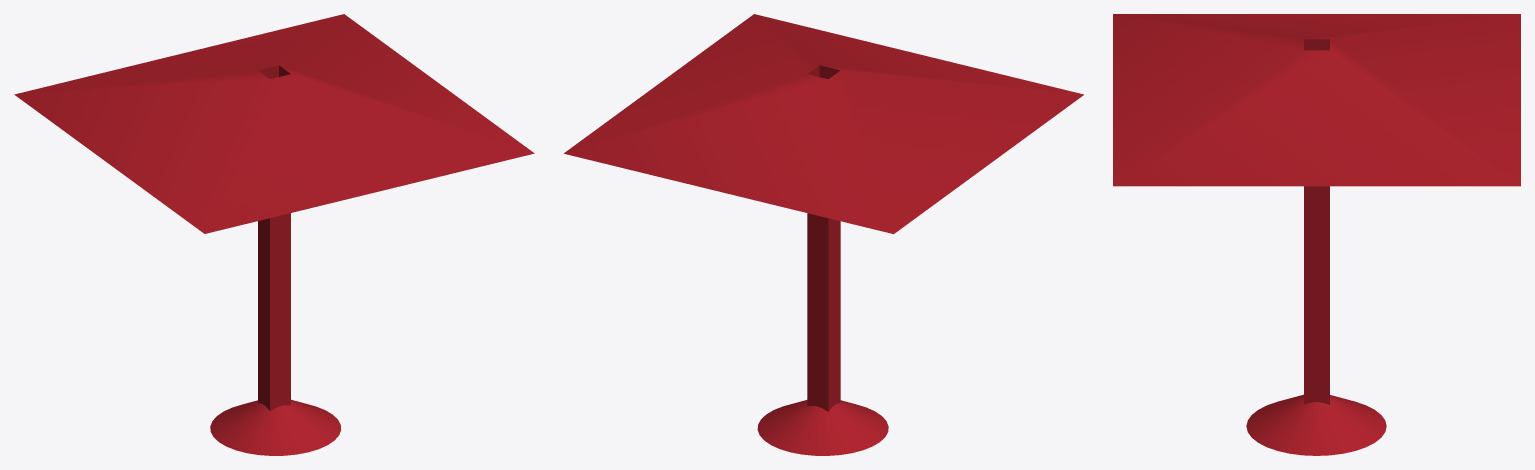
Rendered from parasol.fbx.
3 renders of one model, left to right at view 1: azimuth 30°, elevation 25°; view 2: azimuth 150°, elevation 25°; view 3: azimuth 270°, elevation 25°, orthographic. The views are drawn at different scales.
Parts seen in each view (by area): view 1: Plane, Circle.002; view 2: Plane, Circle.002; view 3: Plane, Circle.002.
Boxes of the visible parts, x1,y1,x2,y2 form: Plane: [14, 14, 534, 411]; Circle.002: [210, 399, 340, 455]; Plane: [564, 14, 1083, 411]; Circle.002: [757, 400, 888, 455]; Plane: [1113, 14, 1520, 404]; Circle.002: [1246, 394, 1386, 455].
Bounding box in the file's own units: 830 × 856 × 830.
